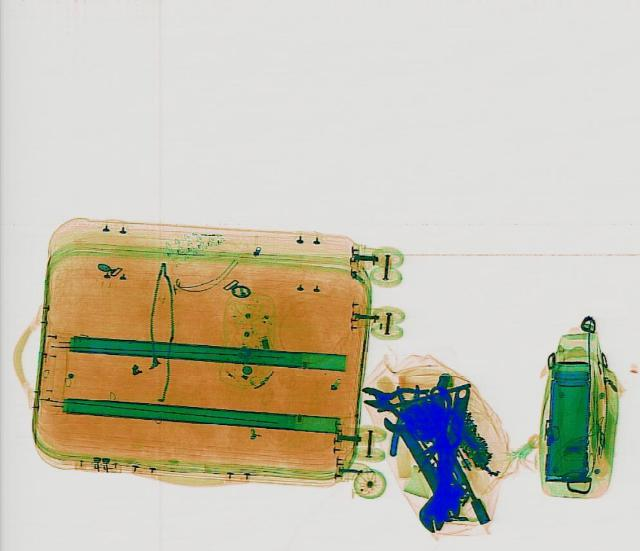Pliers: (352, 376, 430, 425)
Wrench: (378, 408, 464, 523), (414, 383, 476, 534)
